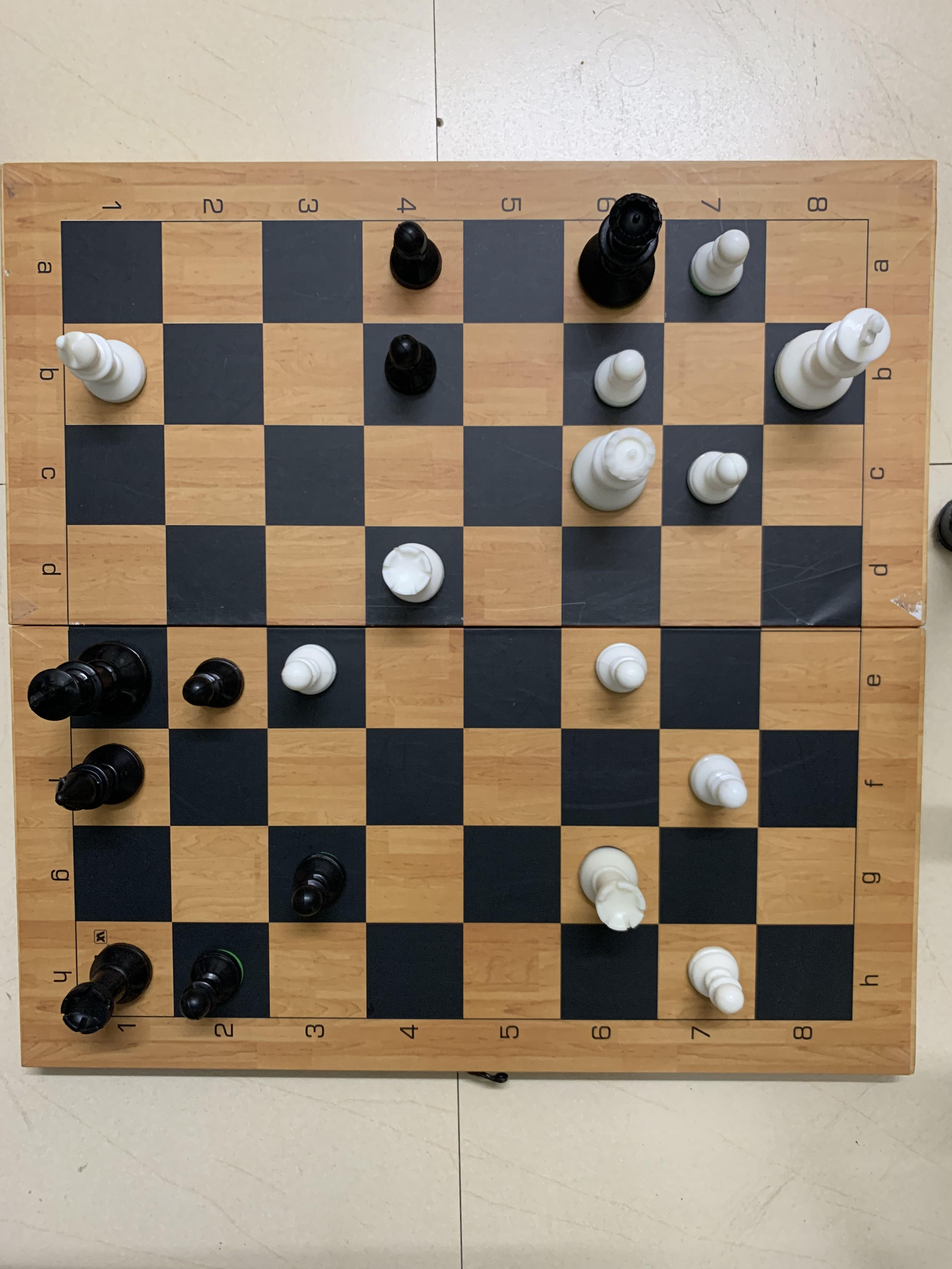black_bishop: (47, 732, 167, 827)
black_king: (22, 625, 163, 735)
black_pawn: (274, 834, 357, 925), (365, 328, 450, 415), (370, 214, 449, 305), (172, 937, 255, 1023), (173, 644, 259, 720)
black_queen: (575, 186, 672, 308)
black_rook: (57, 933, 162, 1048)
white_bishop: (42, 320, 159, 421)
white_king: (773, 296, 900, 412)
white_pawn: (664, 932, 759, 1023), (680, 221, 765, 318), (674, 431, 754, 530), (271, 631, 362, 718), (567, 633, 658, 718), (672, 735, 759, 822), (582, 328, 655, 426)
white_queen: (564, 425, 664, 522)
white_rook: (560, 826, 674, 941), (360, 526, 467, 629)
